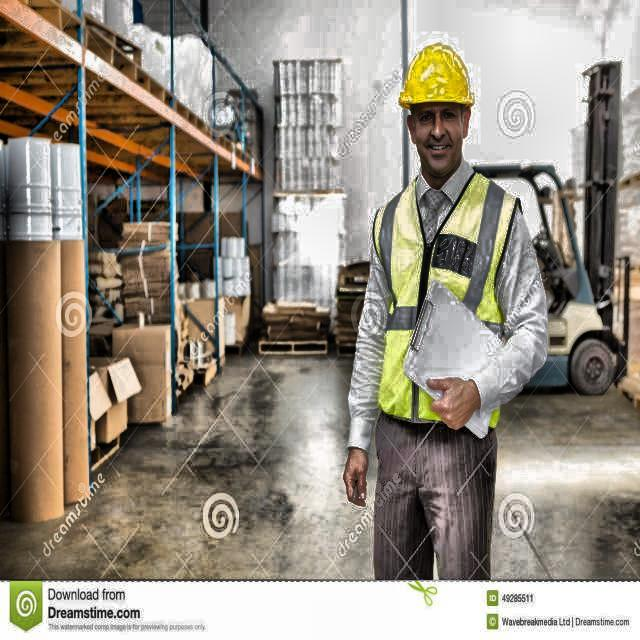person: (348, 30, 546, 575)
